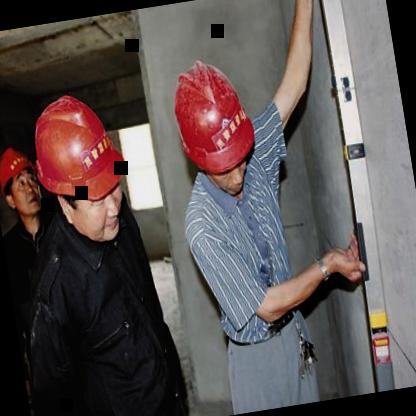helmet: (22, 77, 143, 256), (155, 44, 264, 208), (0, 138, 46, 223)
